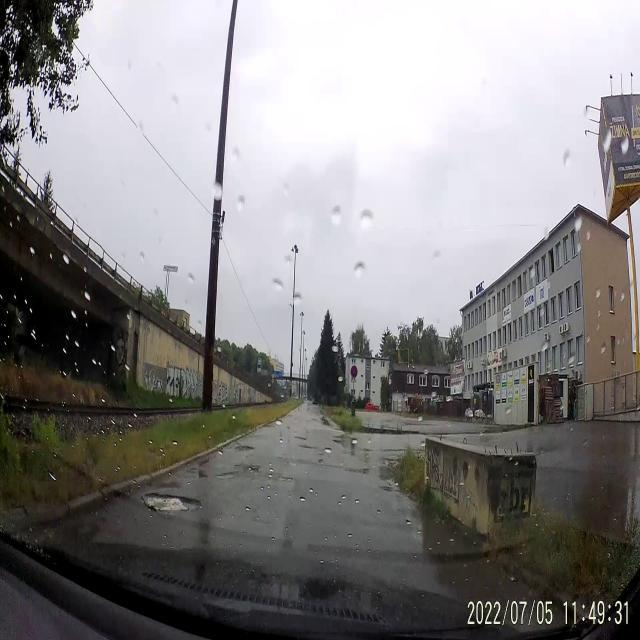Pothole: (146, 482, 197, 524), (234, 458, 260, 481), (235, 441, 256, 457), (299, 443, 317, 452), (292, 433, 307, 441)
